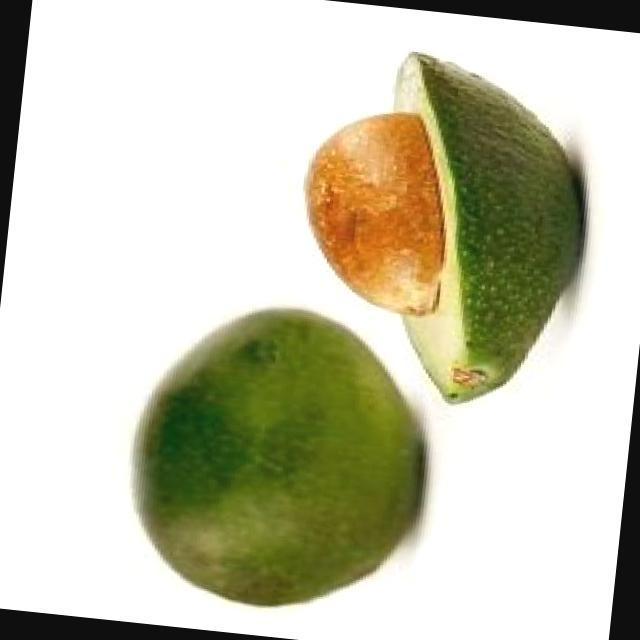avocado: (278, 48, 596, 420), (120, 290, 450, 635)
